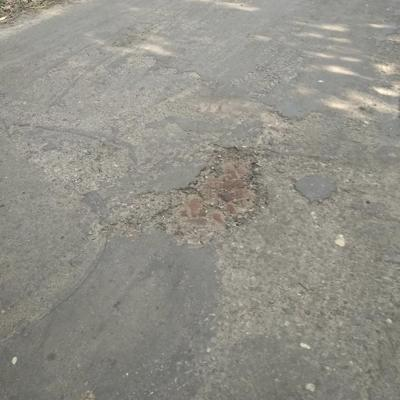Pothole: (111, 125, 281, 248)
